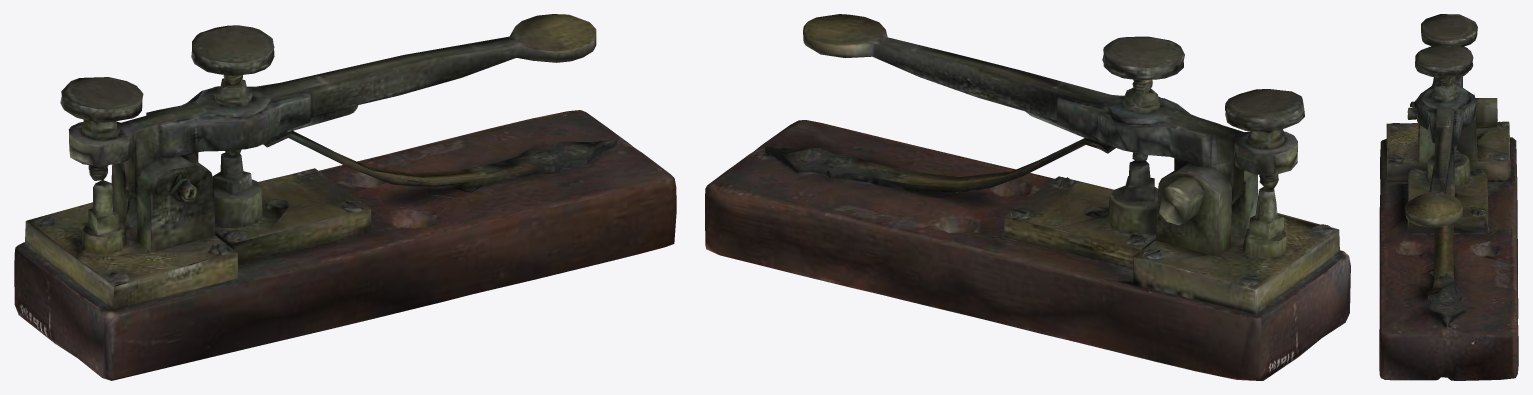
Rendered from morse-telegraph-key.glb.
The picture shows the model from 3 angles, left to right: view 1: azimuth 30°, elevation 25°; view 2: azimuth 150°, elevation 25°; view 3: azimuth 270°, elevation 25°; orthographic projection. The views are drawn at different scales.
Bounding box in the file's own units: 169 × 76.49 × 50.53.
Materials: 1 (1 with a texture image).
